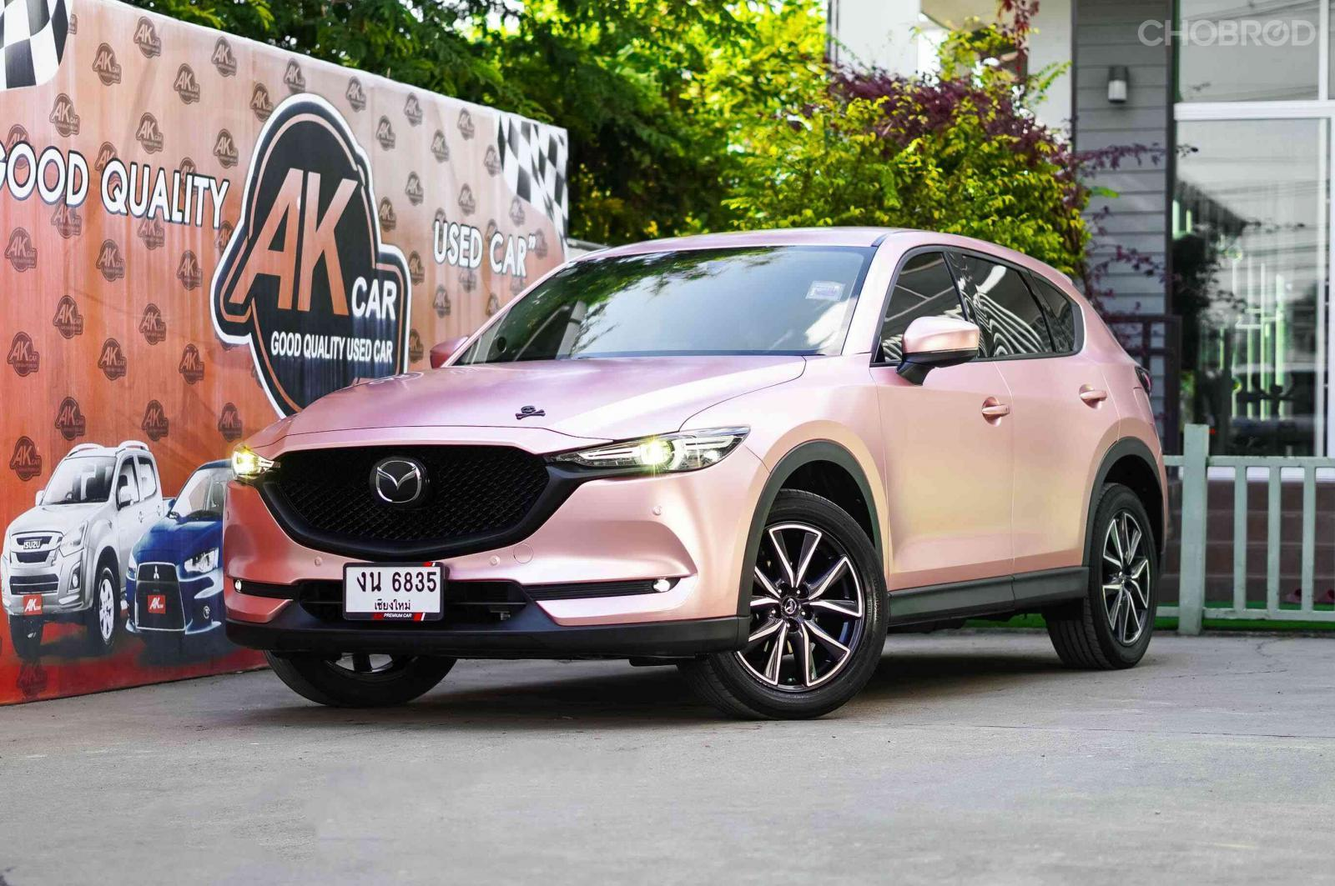license-plate: (343, 560, 452, 627)
